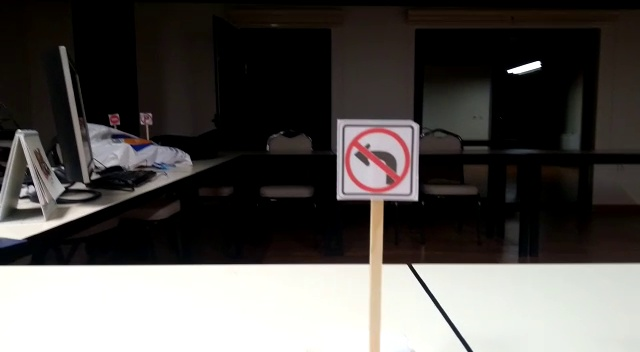sola_donulmez: (342, 126, 415, 196)
